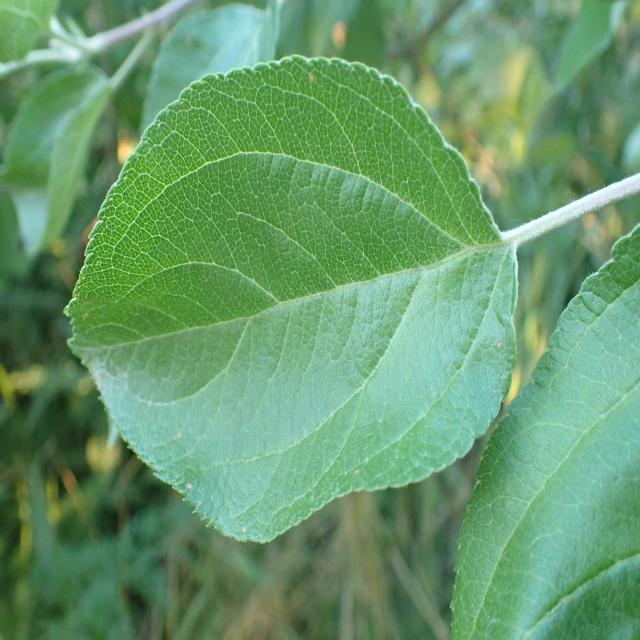healthy: (62, 53, 520, 544), (450, 222, 640, 640)
